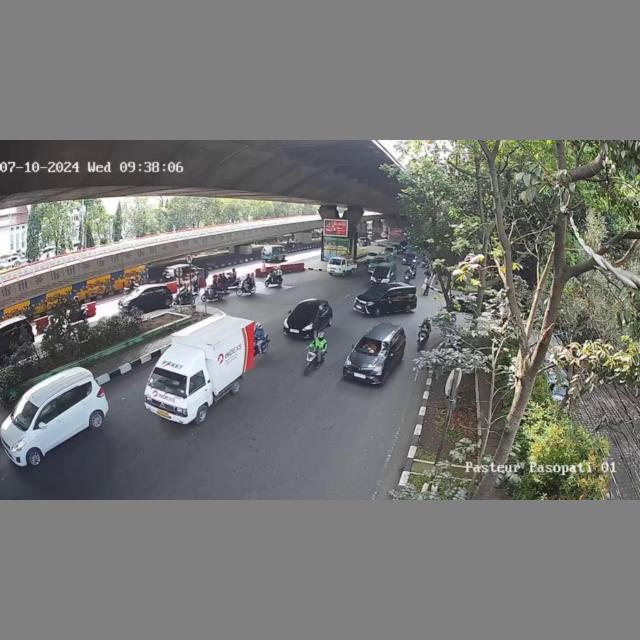windshield: (147, 365, 189, 398), (12, 397, 39, 426), (355, 336, 389, 357), (292, 306, 317, 320), (365, 286, 387, 300), (374, 267, 390, 276)
